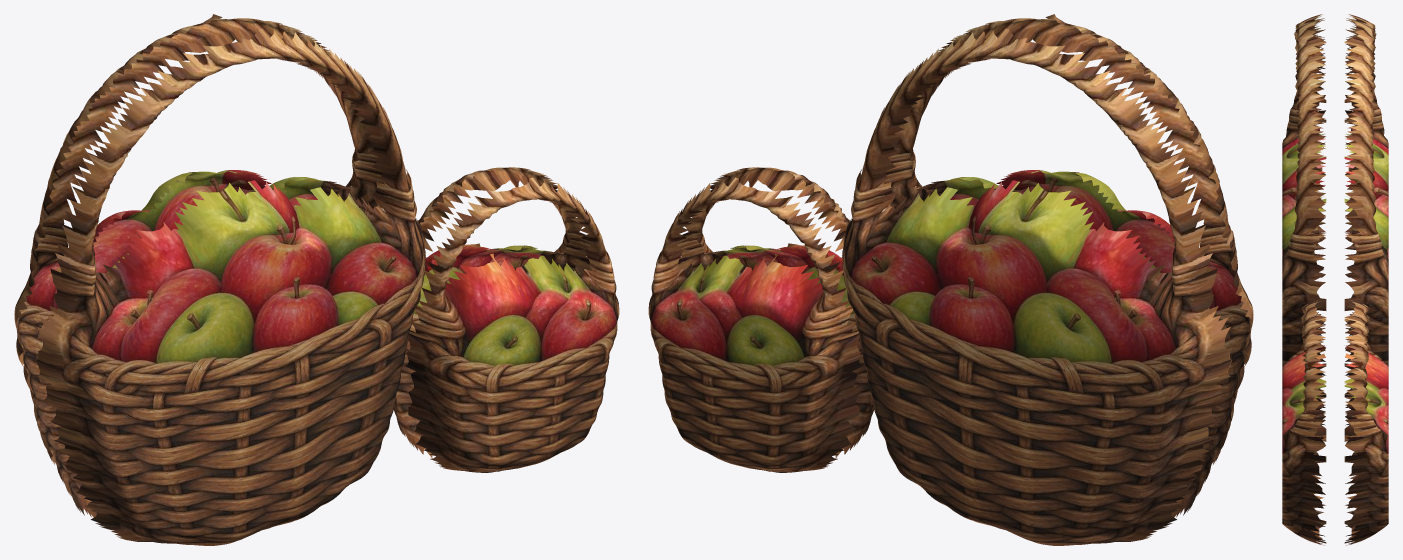
The model's file is v4-market-street-scatter-apple-baskets.glb.
3 views of the same model, side by side, from view 1: azimuth 30°, elevation 25°; view 2: azimuth 150°, elevation 25°; view 3: azimuth 270°, elevation 25° (orthographic). The views are drawn at different scales.
Visible parts, largest first — view 1: v4-market-street-scatter-apple-baskets; view 2: v4-market-street-scatter-apple-baskets; view 3: v4-market-street-scatter-apple-baskets.
Boxes of the visible parts, x1,y1,x2,y2 form: v4-market-street-scatter-apple-baskets: (14, 14, 619, 545); v4-market-street-scatter-apple-baskets: (648, 14, 1253, 545); v4-market-street-scatter-apple-baskets: (1282, 14, 1388, 545).
Size of the model in its own units: 1.19 by 0.9924 by 0.24.
1 material, 1 textured.
